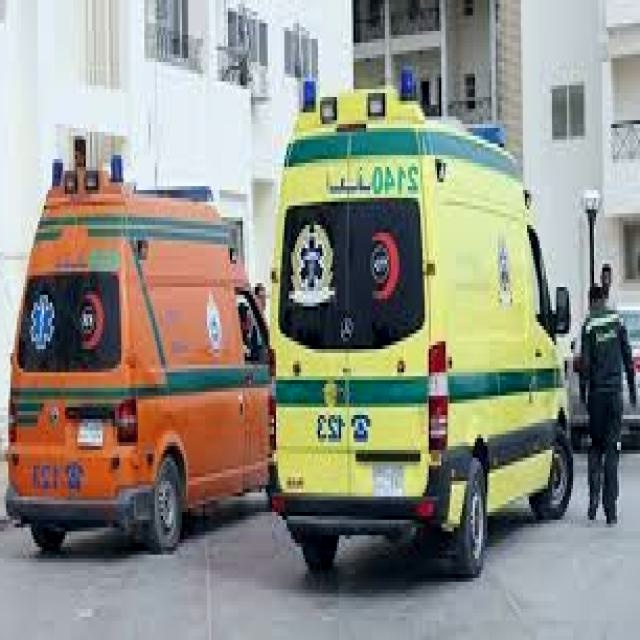Ambulance: (268, 66, 575, 578), (6, 128, 276, 555)
person: (581, 279, 638, 524)
